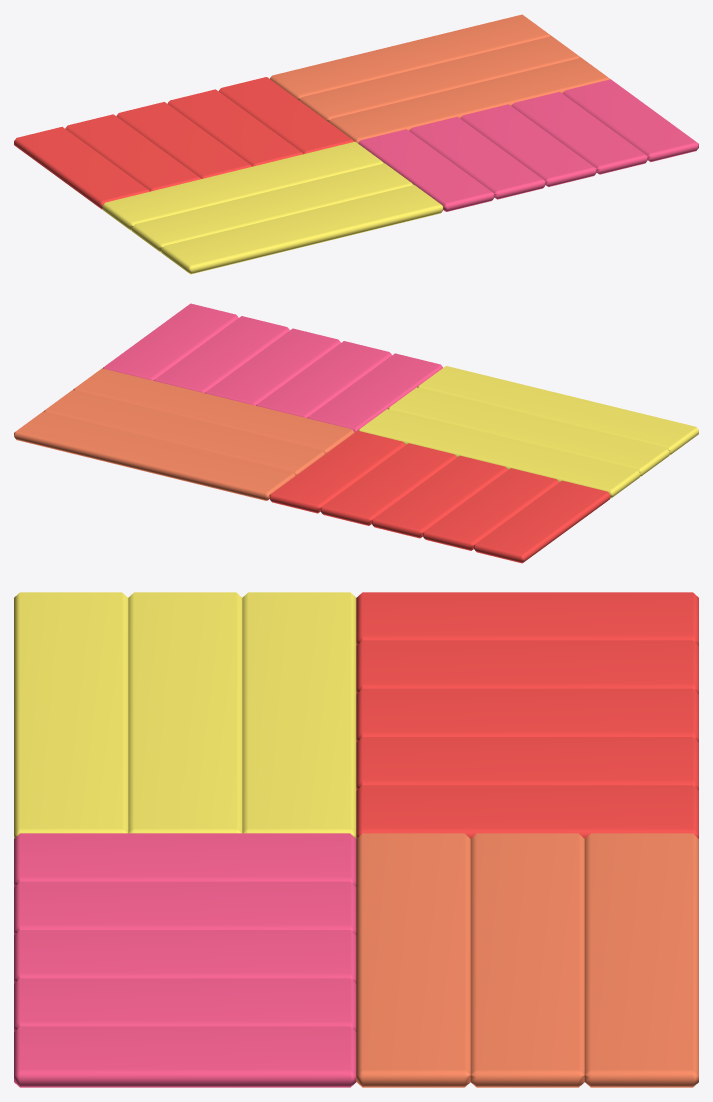
Rendered from City_19_Carpet_1.glb.
3 views of the same model, one above another, from view 1: azimuth 30°, elevation 25°; view 2: azimuth 150°, elevation 25°; view 3: azimuth 270°, elevation 25° (orthographic). The views are drawn at different scales.
Parts seen in each view (by area): view 1: City_19_Carpet_1; view 2: City_19_Carpet_1; view 3: City_19_Carpet_1.
Part boxes in pixels (left/top/right/bottom): City_19_Carpet_1: left=14, top=14, right=698, bottom=274; City_19_Carpet_1: left=14, top=303, right=698, bottom=563; City_19_Carpet_1: left=14, top=592, right=698, bottom=1087.
Size of the model in its own units: 2.44 by 0.0429 by 1.46.
1 material, 1 textured.
